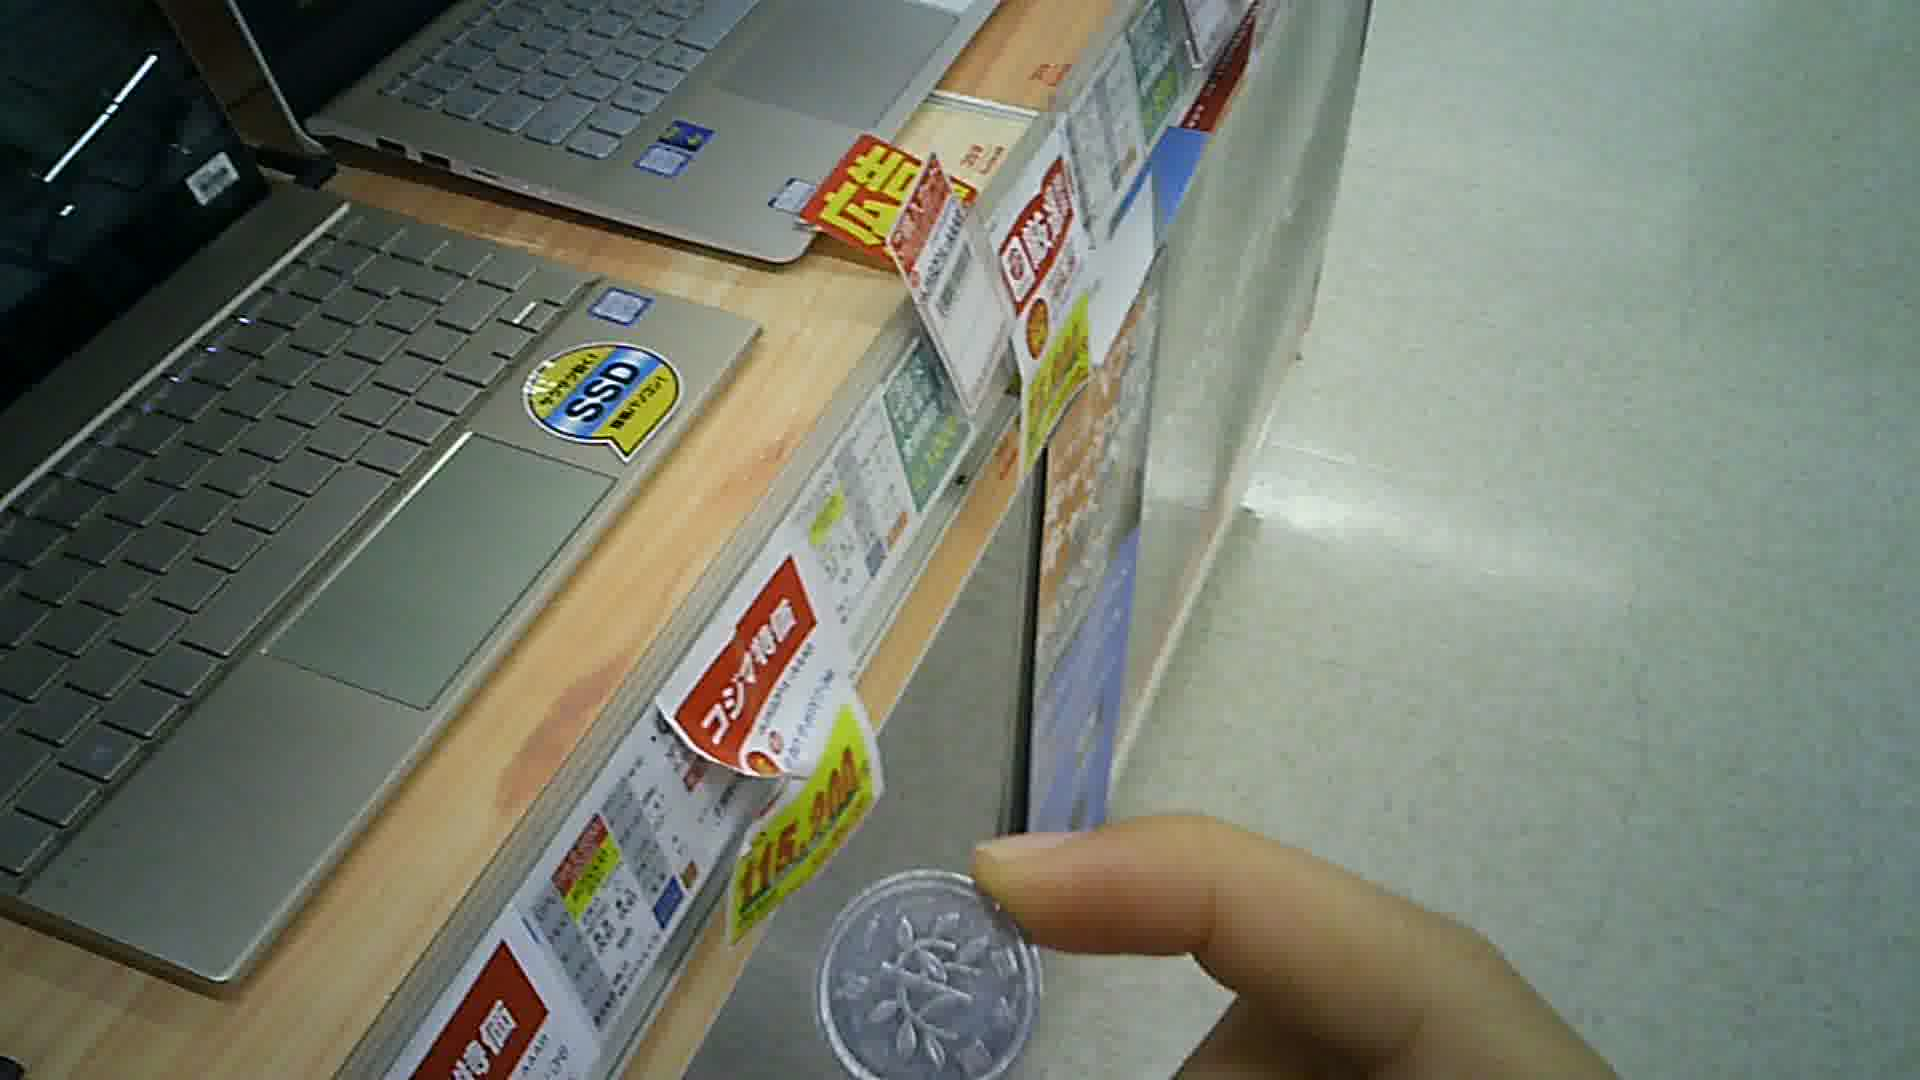1 Yen: (820, 872, 1035, 1077)
